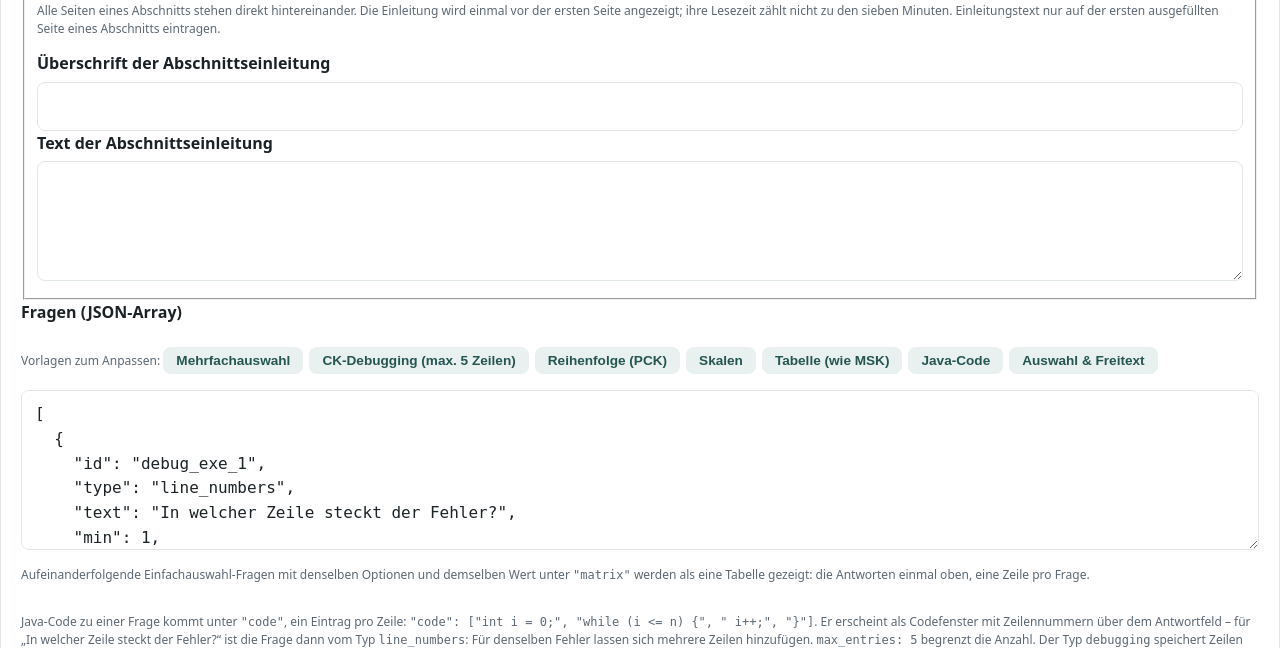
Test: a preset fills the JSON and the preview shows its shape
(page scrolled)
Step 1. Click the button "Tabelle (wie MSK)" → click(832, 360), box [762,347,902,374]
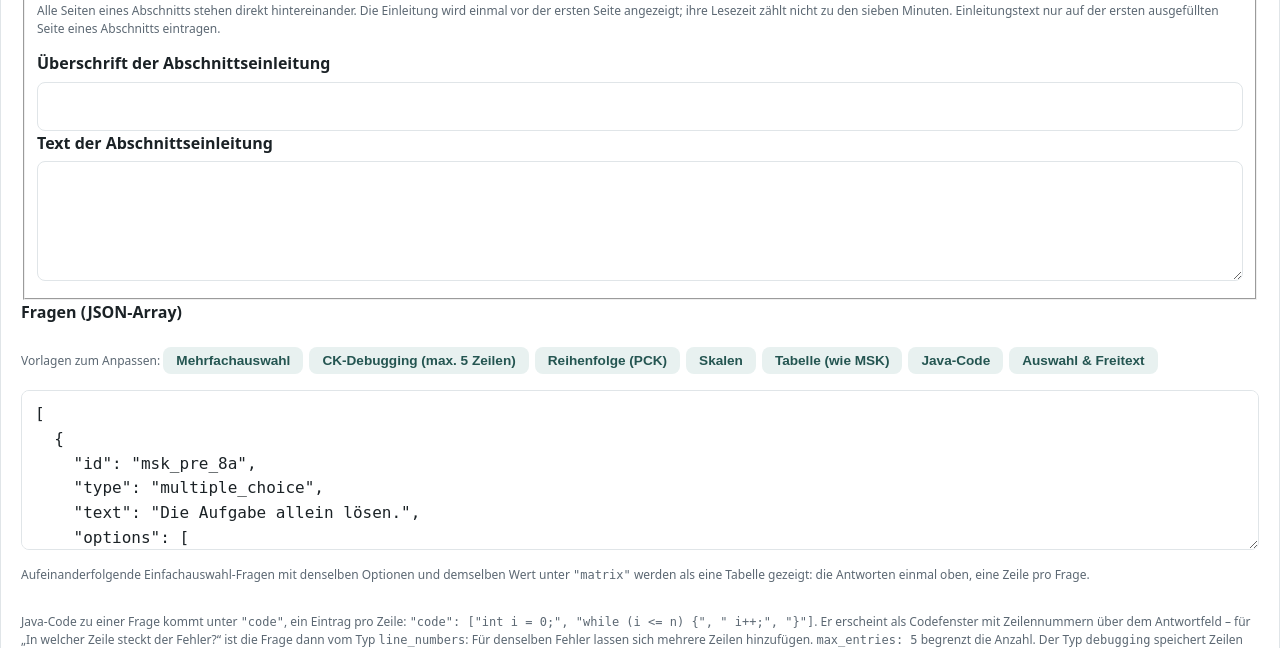
Step 2. Click the button "Skalen" → click(721, 360), box [686,347,756,374]
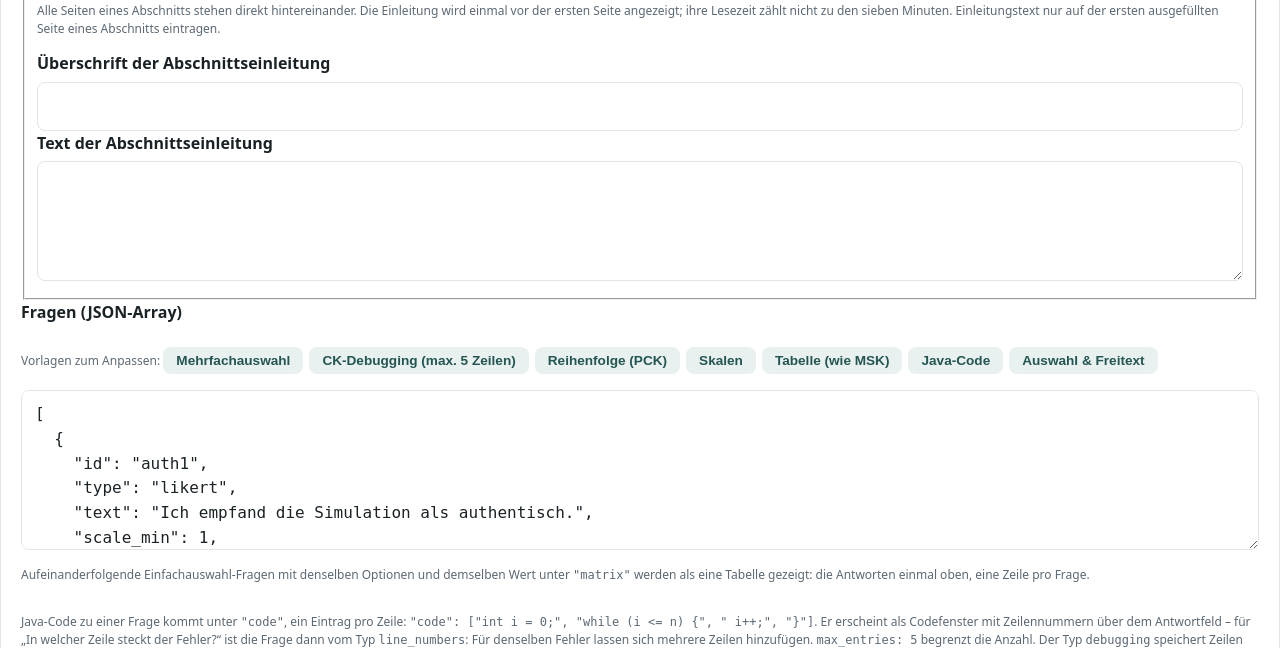
Step 3. Click the button "Auswahl & Freitext" → click(1083, 360), box [1009,347,1158,374]
(page scrolled)
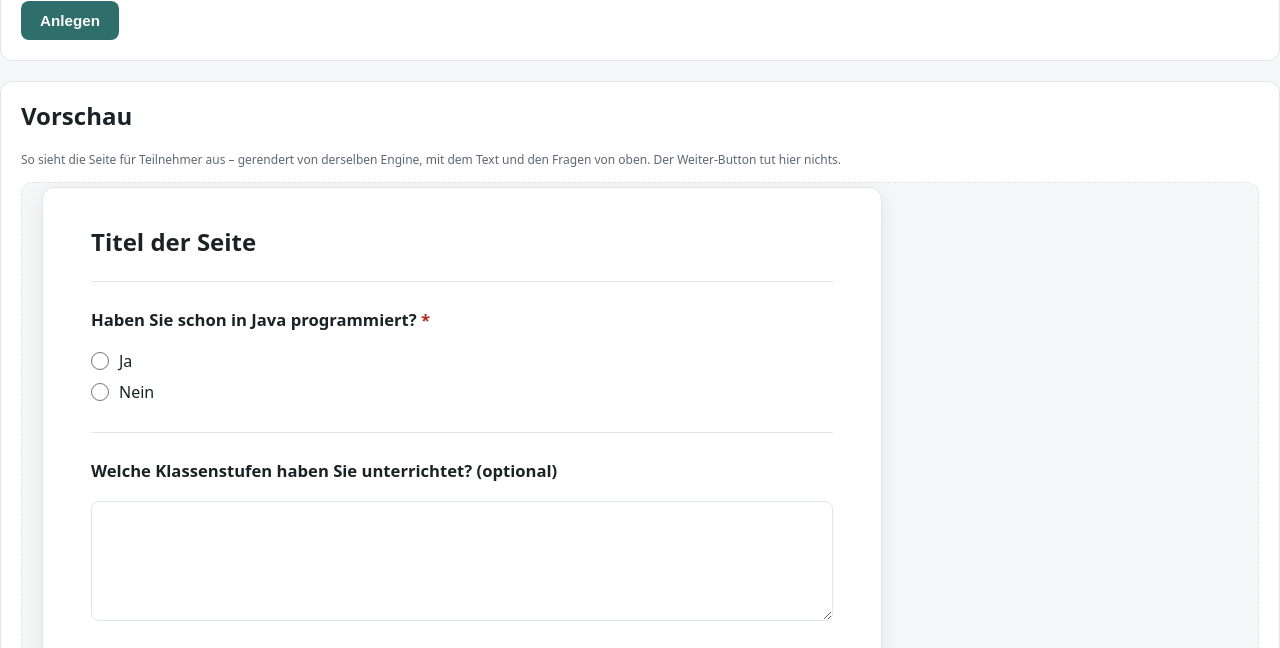
Expected: the text "Seit wie vielen Jahren?" is not shown
Step 4. Click the radio button labelled "Ja" → click(100, 361), box [91,352,109,370]
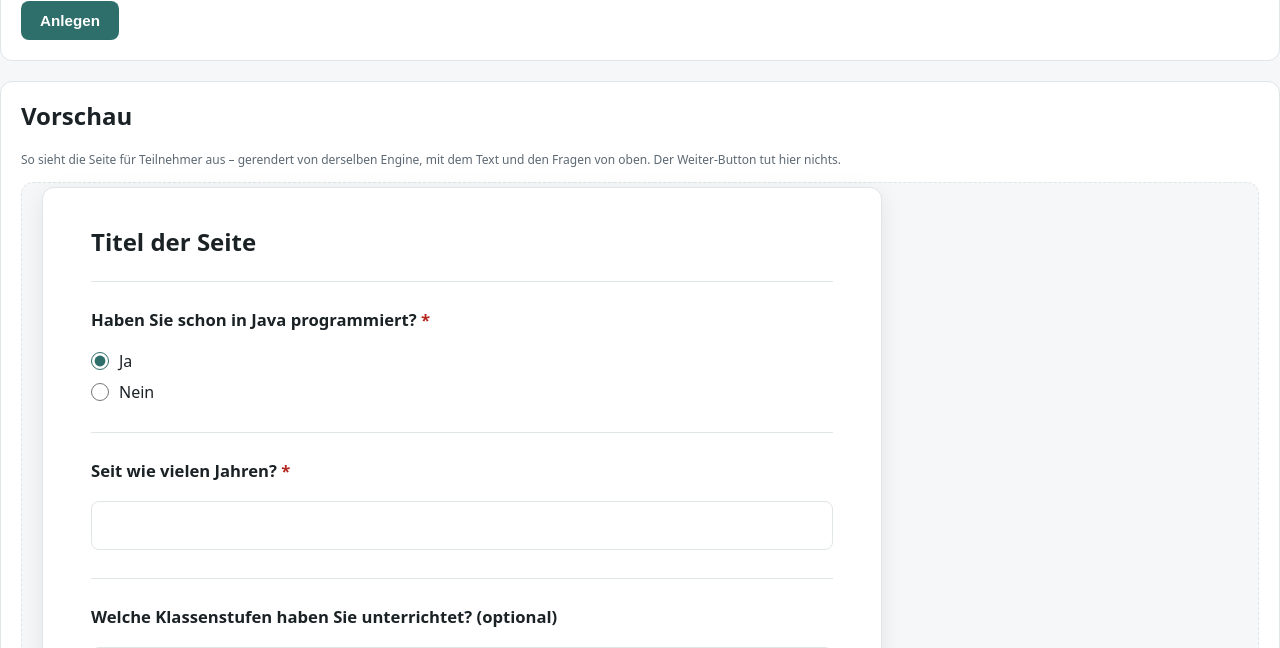
Expected: the text "Seit wie vielen Jahren?" is shown, [91,459,277,482]
